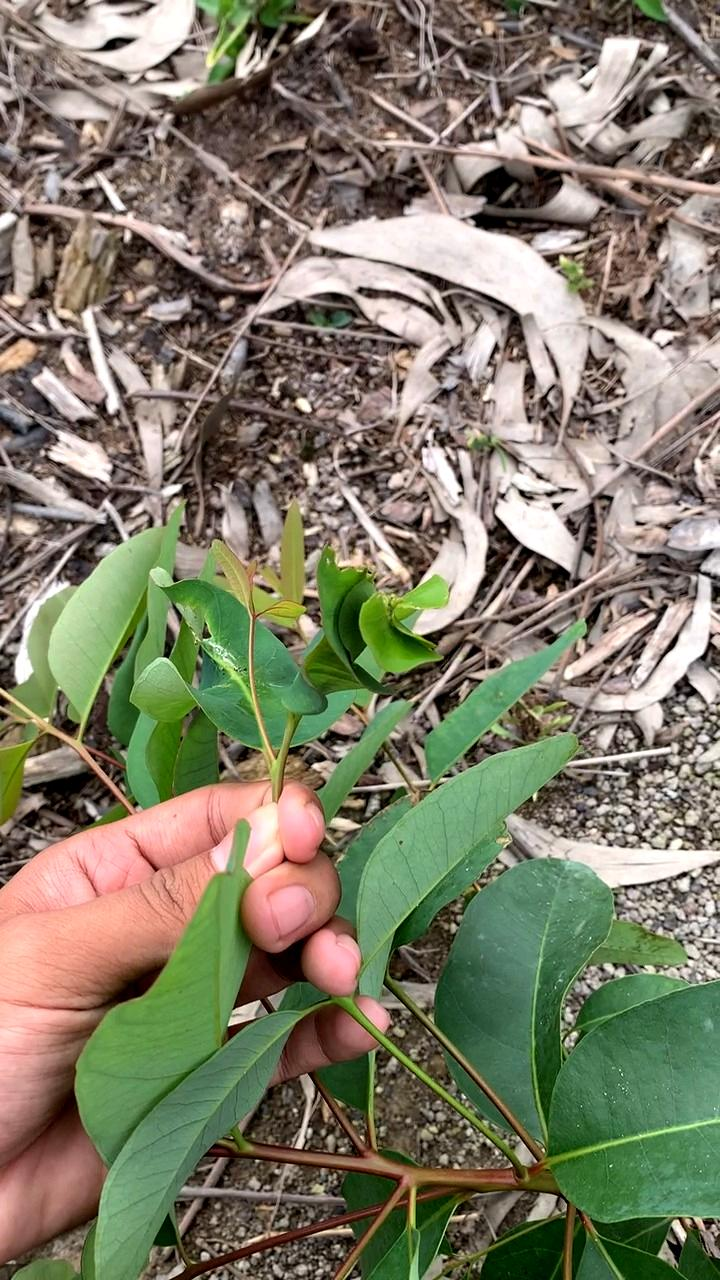Leaf Roller - Leaf: (253, 546, 478, 736)
